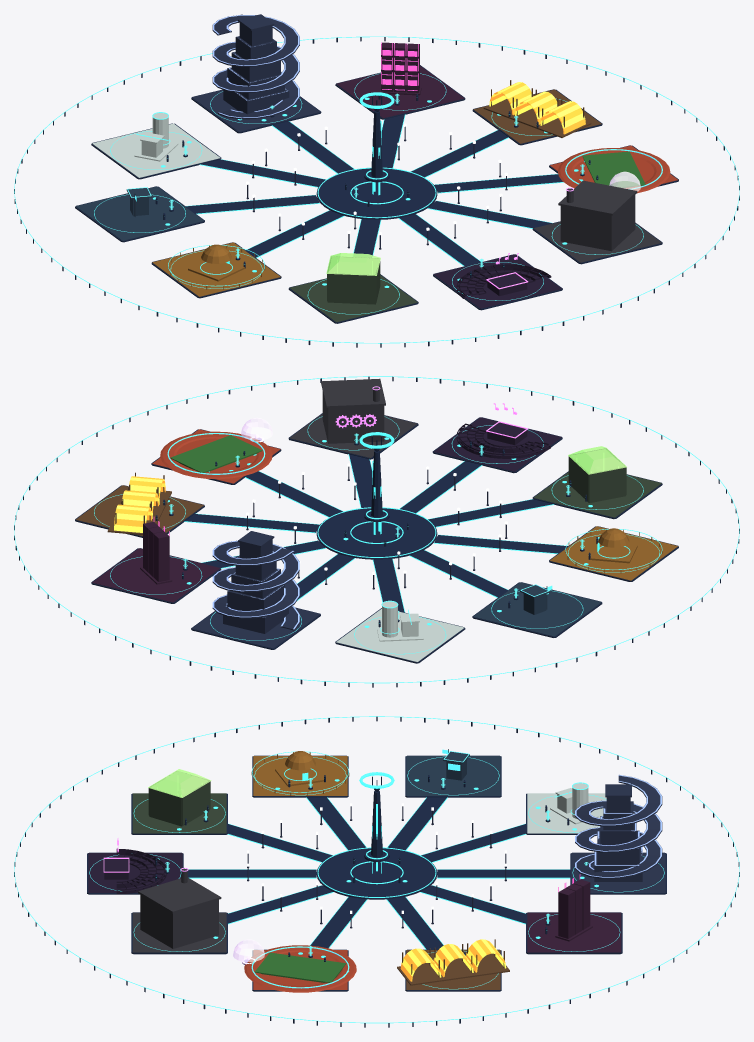
File: lumina_commons_src.glb
3 views of the same model, one above another, from view 1: azimuth 30°, elevation 25°; view 2: azimuth 150°, elevation 25°; view 3: azimuth 270°, elevation 25° (orthographic).
Visible parts, largest first — view 1: Z01_study_tower, U_plaza_disc, Z05_gear_workshop, U_tile_top_Z09, Z03_market_canopy, Z04_sport_field, U_tile_top_Z10, U_tile_top_Z08, Z07_greenhouse, U_tile_top_Z02, U_tile_top_Z06, U_tile_top_Z07 (+16 smaller); view 2: Z01_study_tower, U_plaza_disc, Z05_gear_workshop, Z04_sport_field, U_tile_top_Z09, U_tile_top_Z02, U_tile_top_Z08, U_tile_top_Z10, Z07_greenhouse, U_tile_top_Z06, Z03_market_canopy, U_tile_top_Z07 (+19 smaller); view 3: Z01_study_tower, U_plaza_disc, Z05_gear_workshop, Z04_sport_field, Z03_market_canopy, U_tile_top_Z09, U_tile_top_Z02, Z07_greenhouse, U_tile_top_Z08, U_tile_top_Z06, U_tile_top_Z07, U_tile_top_Z10 (+17 smaller).
Boxes of the visible parts, x1,y1,x2,y2 form: Z01_study_tower: [212, 14, 299, 119]; U_plaza_disc: [316, 167, 437, 219]; Z05_gear_workshop: [558, 180, 637, 251]; U_tile_top_Z09: [76, 186, 203, 240]; Z03_market_canopy: [483, 80, 591, 137]; Z04_sport_field: [557, 148, 670, 193]; U_tile_top_Z10: [92, 123, 220, 177]; U_tile_top_Z08: [152, 242, 280, 296]; Z07_greenhouse: [326, 253, 380, 304]; U_tile_top_Z02: [336, 66, 464, 118]; U_tile_top_Z06: [433, 254, 561, 308]; U_tile_top_Z07: [289, 275, 417, 322]; Z01_study_tower: [212, 531, 299, 633]; U_plaza_disc: [316, 507, 437, 559]; Z05_gear_workshop: [321, 378, 385, 443]; Z04_sport_field: [160, 431, 272, 479]; U_tile_top_Z09: [473, 582, 601, 636]; U_tile_top_Z02: [92, 548, 220, 602]; U_tile_top_Z08: [550, 526, 677, 580]; U_tile_top_Z10: [336, 609, 464, 662]; Z07_greenhouse: [568, 446, 626, 503]; U_tile_top_Z06: [433, 417, 561, 471]; Z03_market_canopy: [107, 472, 171, 535]; U_tile_top_Z07: [533, 472, 661, 517]; Z01_study_tower: [575, 775, 662, 881]; U_plaza_disc: [316, 847, 437, 899]; Z05_gear_workshop: [138, 867, 221, 948]; Z04_sport_field: [244, 945, 356, 992]; Z03_market_canopy: [397, 939, 509, 985]; U_tile_top_Z09: [406, 756, 500, 795]; U_tile_top_Z02: [527, 912, 621, 952]; Z07_greenhouse: [148, 769, 211, 826]; U_tile_top_Z08: [253, 756, 347, 795]; U_tile_top_Z06: [88, 853, 182, 892]; U_tile_top_Z07: [132, 793, 226, 833]; U_tile_top_Z10: [527, 793, 606, 833].
Size of the model in its own units: 180 by 26.4 by 180.
